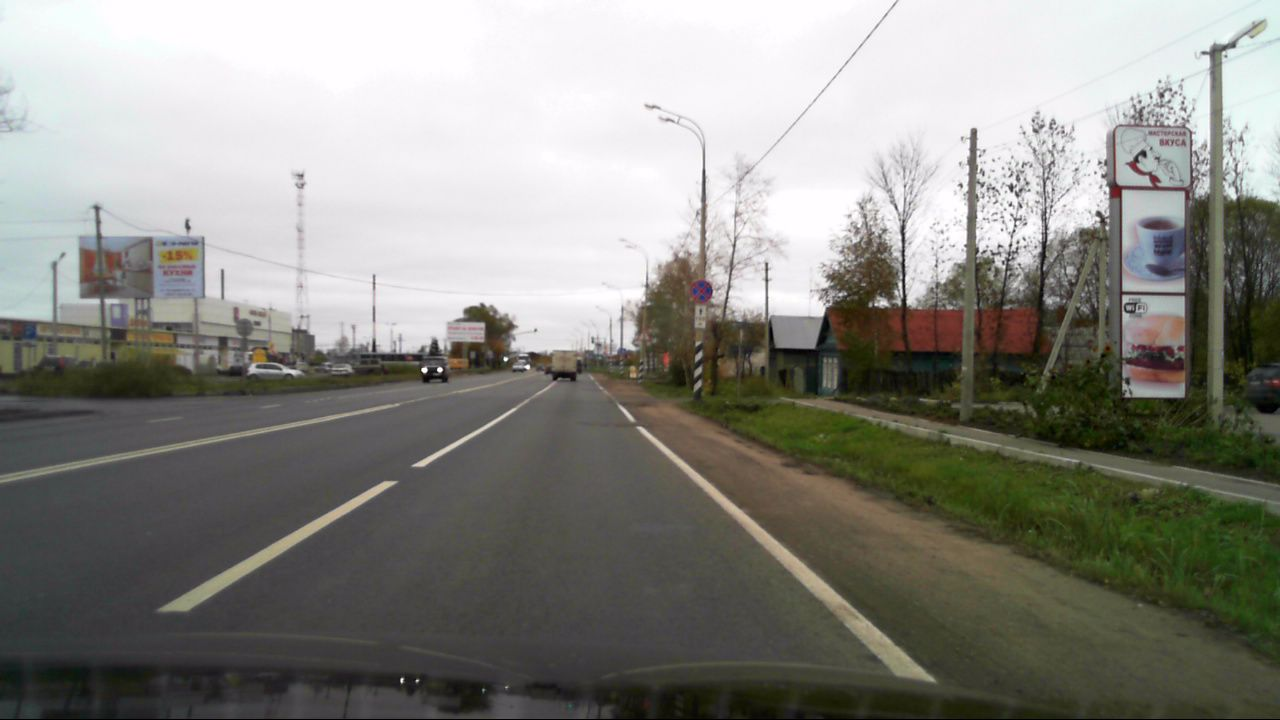No Parking: (690, 280, 712, 304)
